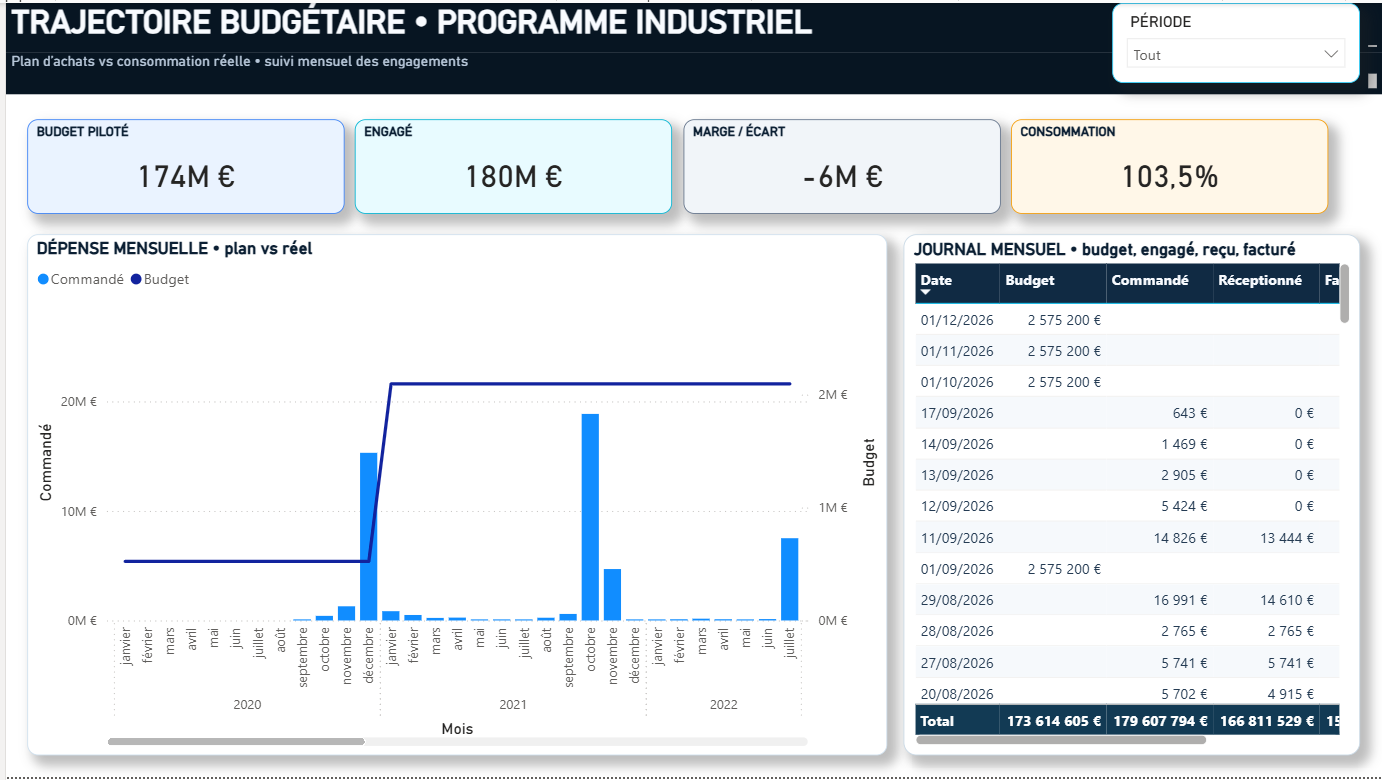

This screenshot's page, from the dashboard's own definition file:
{"tool":"powerbi","page":{"name":"02 • Trajectoire budget","canvas":[1280,720],"ordinal":1},"visuals":[{"type":"textbox","title":"TRAJECTOIRE BUDGÉTAIRE • PROGRAMME INDUSTRIEL","box":[0,0,1280,46],"z":1},{"type":"textbox","title":"Plan d’achats vs consommation réelle • suivi mensuel des engagements","box":[0,46,1280,38],"z":2},{"type":"slicer","fields":{"Values":["DATE.Date.Variation.Hiérarchie de dates.Année","DATE.Date.Variation.Hiérarchie de dates.Mois"]},"box":[1025,13,230,58],"z":6},{"type":"card","title":"BUDGET PILOTÉ","fields":{"Values":["Commandes P2/FU.PF_Budget"]},"box":[20,108,295,88],"z":10},{"type":"card","title":"ENGAGÉ","fields":{"Values":["Commandes P2/FU.PF_Commandé"]},"box":[325,108,295,88],"z":11},{"type":"card","title":"MARGE / ÉCART","fields":{"Values":["Commandes P2/FU.PF_ResteBudgétaire"]},"box":[630,108,295,88],"z":12},{"type":"card","title":"CONSOMMATION","fields":{"Values":["Commandes P2/FU.PF_TauxConsommation"]},"box":[935,108,295,88],"z":13},{"type":"lineStackedColumnComboChart","title":"DÉPENSE MENSUELLE • plan vs réel","fields":{"Category":["DATE.Date.Variation.Hiérarchie de dates.Année","DATE.Date.Variation.Hiérarchie de dates.Mois"],"Y":["Commandes P2/FU.PF_Commandé"],"Y2":["Commandes P2/FU.PF_Budget"]},"box":[20,215,800,485],"z":20},{"type":"tableEx","title":"JOURNAL MENSUEL • budget, engagé, reçu, facturé","fields":{"Values":["DATE.Date","Commandes P2/FU.PF_Budget","Commandes P2/FU.PF_Commandé","Commandes P2/FU.PF_Réceptionné","Commandes P2/FU.PF_Facturé","Commandes P2/FU.PF_Échu"]},"box":[835,215,425,485],"z":21}]}

Visuals, with their boxes in screenshot pixels (x1, y1, x2, y2), scaled from the page's 1280x720 canvas onto the 1382x780 screenshot:
"TRAJECTOIRE BUDGÉTAIRE • PROGRAMME INDUSTRIEL" textbox: bbox=[0, 0, 1381, 50]
"Plan d’achats vs consommation réelle • suivi mensuel des engagements" textbox: bbox=[0, 50, 1381, 91]
slicer - DATE.Date.Variation.Hiérarchie de dates.Année x DATE.Date.Variation.Hiérarchie de dates.Mois: bbox=[1107, 14, 1355, 77]
"BUDGET PILOTÉ" card: bbox=[22, 117, 340, 212]
"ENGAGÉ" card: bbox=[351, 117, 669, 212]
"MARGE / ÉCART" card: bbox=[680, 117, 999, 212]
"CONSOMMATION" card: bbox=[1010, 117, 1328, 212]
"DÉPENSE MENSUELLE • plan vs réel" lineStackedColumnComboChart: bbox=[22, 233, 885, 758]
"JOURNAL MENSUEL • budget, engagé, reçu, facturé" tableEx: bbox=[902, 233, 1360, 758]
